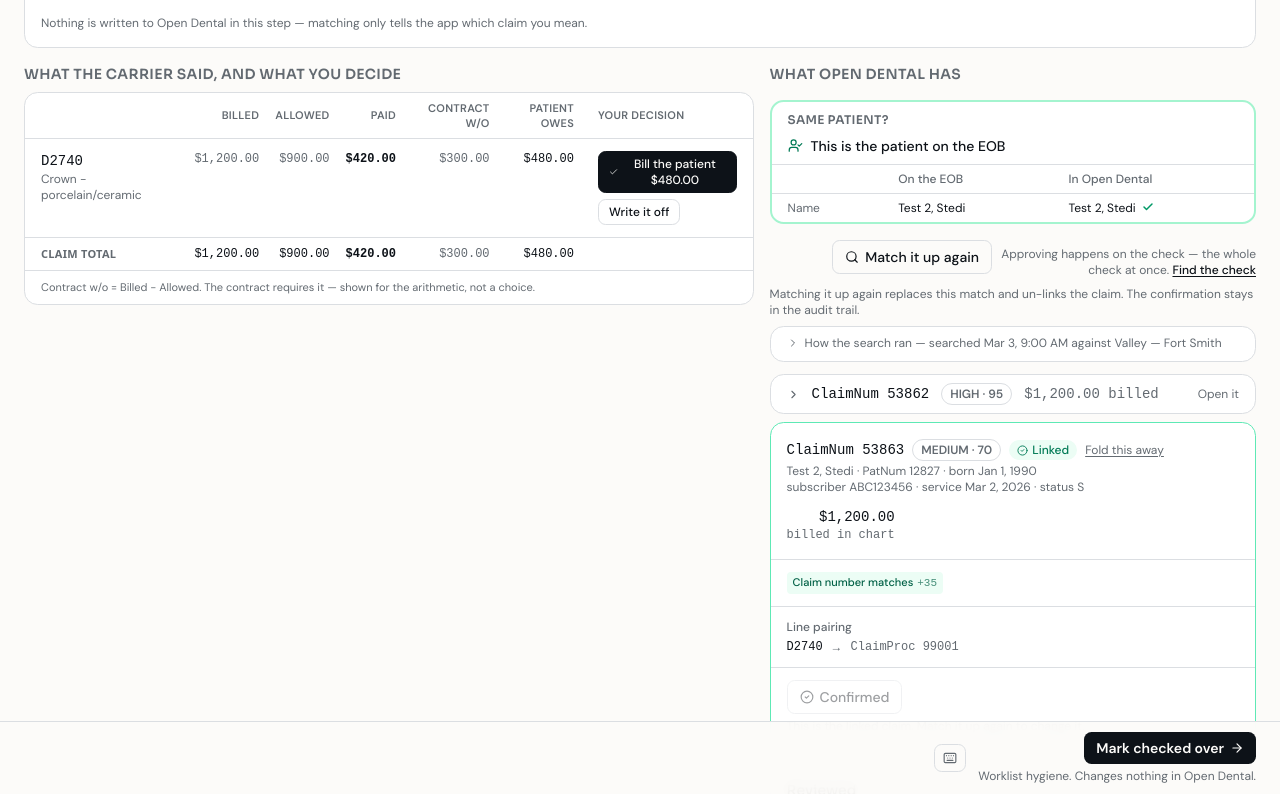
the claim screen folds its candidate list › keeps the record of the choice reachable — nothing is dropped
(page scrolled)
Step 1. Click the button with test id "candidate-row-53862" → (1013, 394), box [770, 374, 1256, 414]
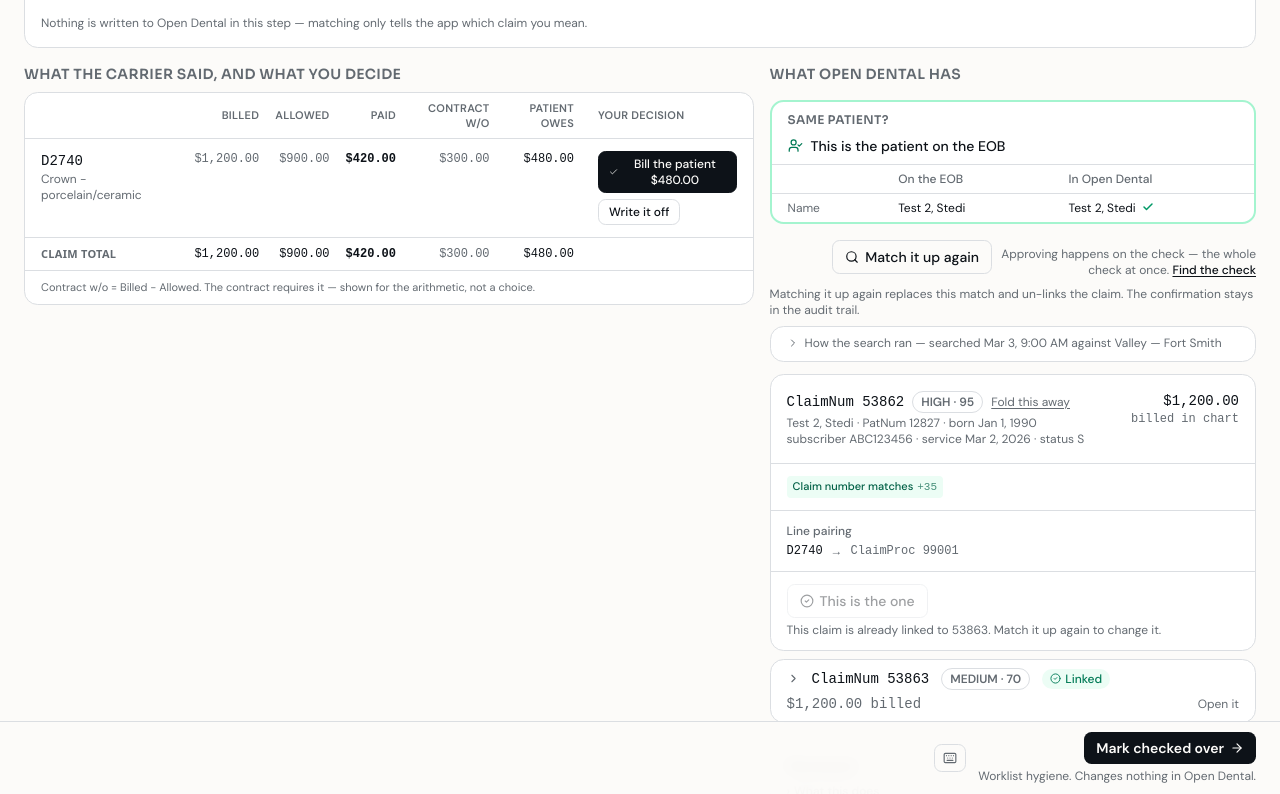
Expected: the element with test id "evidence-53862" is shown, [771, 463, 1255, 510]
Expected: the element with test id "pairs-53862" is shown, [771, 510, 1255, 570]
